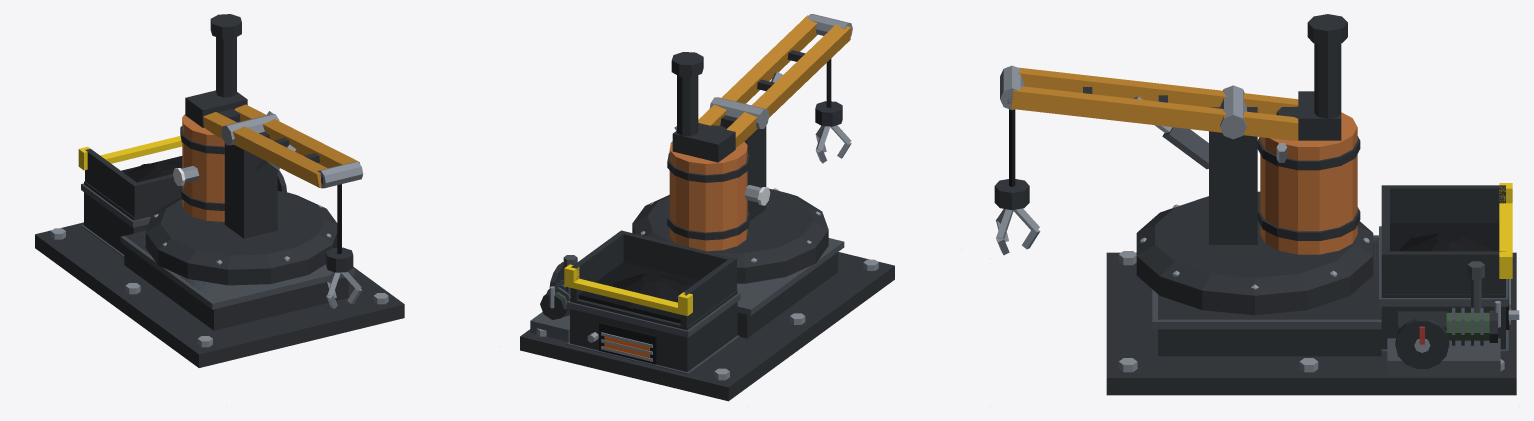
The model's file is bras_t1.glb.
3 views of the same model, side by side, from view 1: azimuth 30°, elevation 25°; view 2: azimuth 150°, elevation 25°; view 3: azimuth 270°, elevation 25° (orthographic). The views are drawn at different scales.
Parts seen in each view (by area): view 1: socle_fonte.002, tourelle_plateau.002, tourelle_fonte.002, tourelle_orange.002, socle_acier_sombre.002, tourelle_cuivre.002, tourelle_acier.006, socle_rive_t1.002, charbon_tremie.002, socle_acier.006; view 2: socle_fonte.002, tourelle_fonte.002, tourelle_plateau.002, tourelle_cuivre.002, tourelle_orange.002, socle_acier_sombre.002, socle_noir.006, tourelle_acier.006, socle_rive_t1.002, charbon_tremie.002, socle_acier.006, socle_braise.002; view 3: socle_fonte.002, tourelle_plateau.002, tourelle_fonte.002, tourelle_orange.002, tourelle_cuivre.002, socle_acier_sombre.002, tourelle_acier.006, volant_fonte.002, socle_noir.006, charbon_tremie.002, socle_rive_t1.002, socle_acier.006 (+3 smaller).
Boxes of the visible parts, x1,y1,x2,y2 form: socle_fonte.002: (35,148,404,367); tourelle_plateau.002: (145,191,337,285); tourelle_fonte.002: (180,14,353,272); tourelle_orange.002: (203,104,359,187); socle_acier_sombre.002: (81,183,354,309); tourelle_cuivre.002: (182,114,224,221); tourelle_acier.006: (153,111,363,308); socle_rive_t1.002: (78,136,182,170); charbon_tremie.002: (125,162,182,182); socle_acier.006: (51,228,388,347); socle_fonte.002: (520,230,894,401); tourelle_fonte.002: (667,50,842,240); tourelle_plateau.002: (632,188,828,283); tourelle_cuivre.002: (669,141,747,251); tourelle_orange.002: (698,15,851,147); socle_acier_sombre.002: (530,238,844,374); socle_noir.006: (578,262,698,364); tourelle_acier.006: (640,14,852,262); socle_rive_t1.002: (564,264,692,316); charbon_tremie.002: (610,274,691,310); socle_acier.006: (536,259,878,380); socle_braise.002: (604,336,649,357); socle_fonte.002: (1106,185,1516,395); tourelle_plateau.002: (1136,191,1373,315); tourelle_fonte.002: (994,14,1360,244); tourelle_orange.002: (1011,67,1298,140); tourelle_cuivre.002: (1260,112,1357,254); socle_acier_sombre.002: (1152,226,1508,375); tourelle_acier.006: (995,65,1369,289); volant_fonte.002: (1395,318,1449,368); socle_noir.006: (1390,223,1509,329); charbon_tremie.002: (1398,231,1499,251); socle_rive_t1.002: (1499,183,1512,278); socle_acier.006: (1118,251,1519,372).
Size of the model in its own units: 1 by 0.9945 by 1.5.
